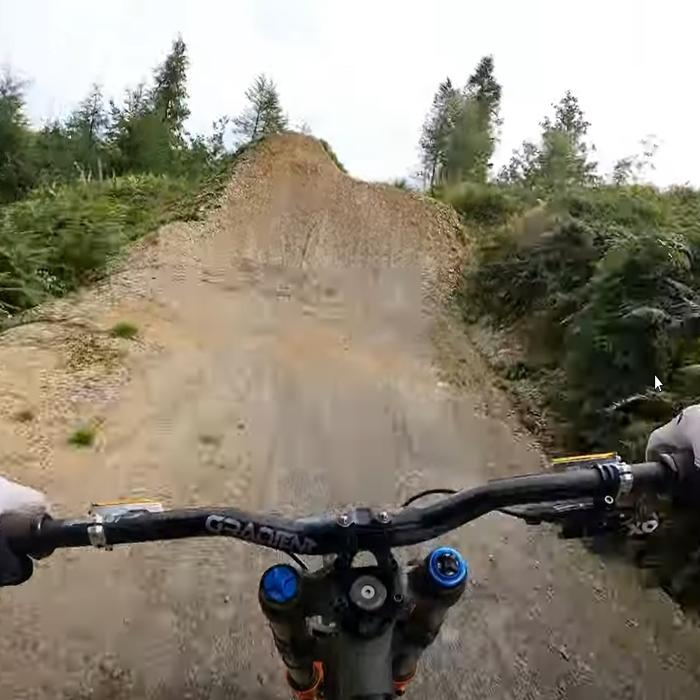turn: (210, 119, 483, 308)
